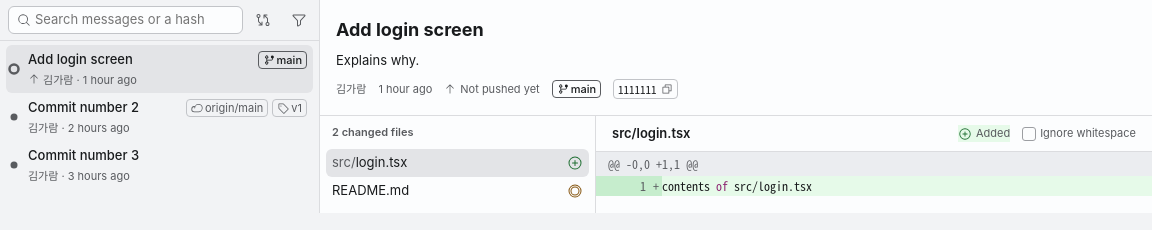
Scenario: HistoryView › selects other commits and files
Click the text "Commit number 2".
click(84, 107)  # box [28,99,139,115]
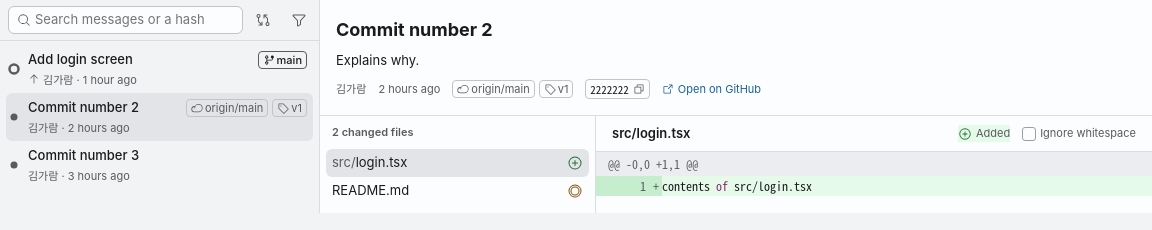
Result: the heading "Commit number 2" is shown at [336,19,493,40]
Click the button "README.md".
click(371, 190)  # box [326,176,589,204]
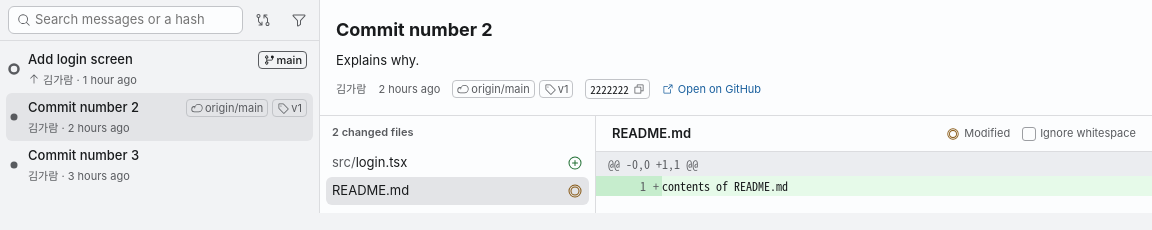
Result: the text "contents of README.md" is shown at [662,177,788,194]
Press Arrowdown
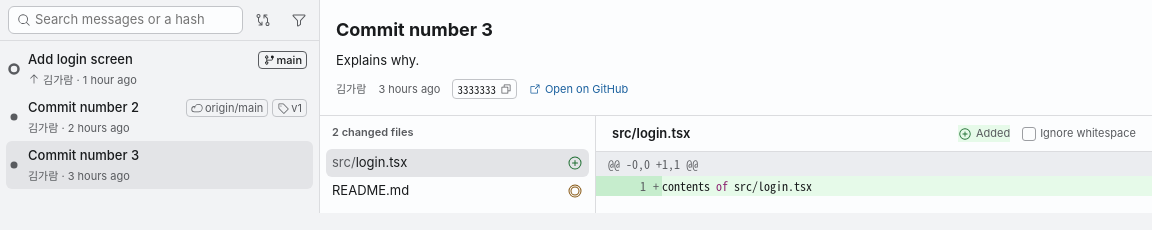
Result: the heading "Commit number 3" is shown at [336,19,493,40]
